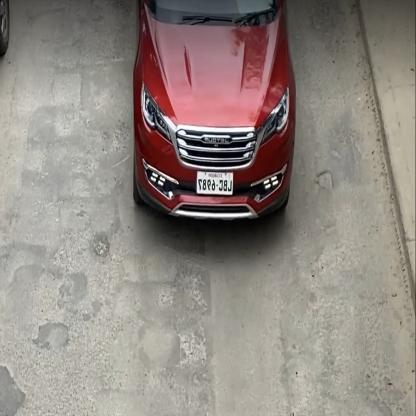Placa: (197, 170, 233, 199)
